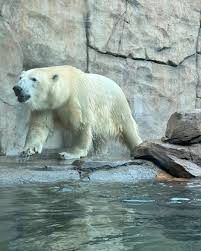PolarBear: (10, 65, 145, 166)
